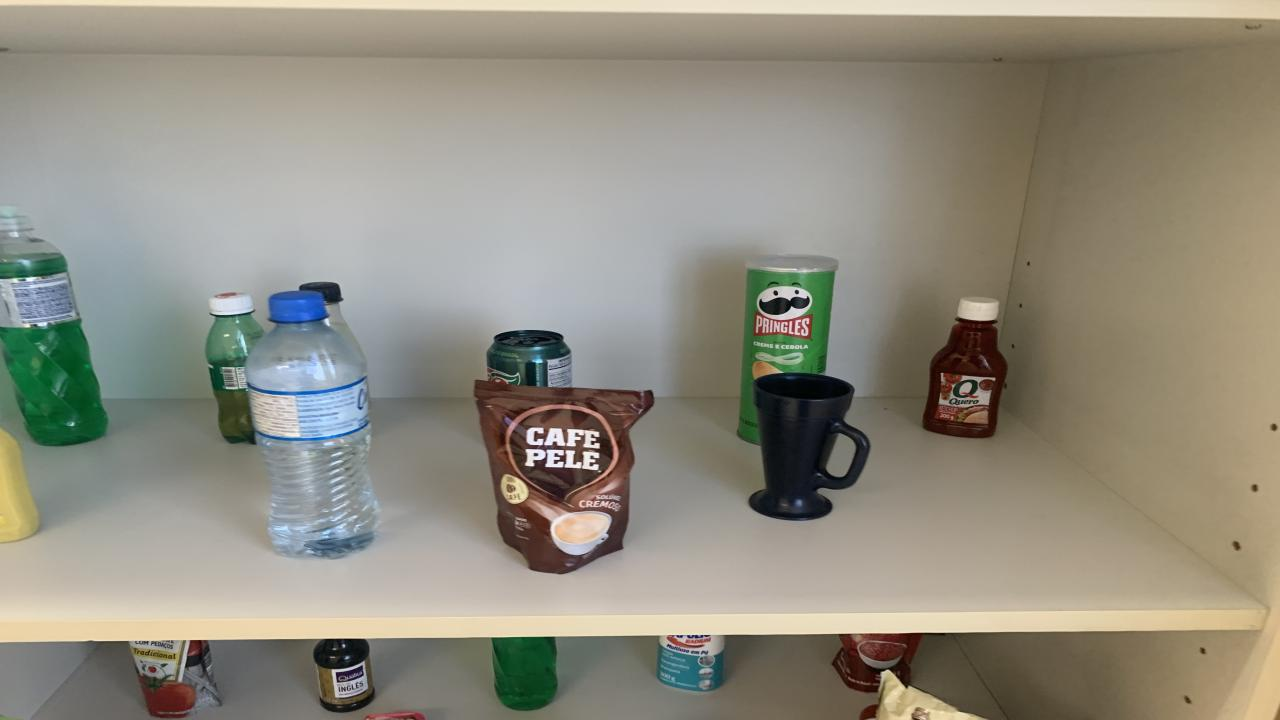Cleaner-Cleanup_Items: (658, 636, 725, 692)
Coffee-Pantry_Items: (475, 381, 655, 574)
Detergent-Cleanup_Items: (0, 208, 108, 446), (492, 638, 558, 711)
English_Sauce-Pantry_Items: (312, 639, 375, 712)
Flakes-Snacks: (875, 671, 982, 720)
Guarana-Drinks: (205, 292, 265, 442)
Guarana_Can-Drinks: (488, 330, 572, 388)
Ketchup-Pantry_Items: (922, 296, 1008, 437)
Mustard-Pantry_Items: (0, 429, 40, 542)
Pringles-Snacks: (738, 255, 838, 442)
Soda-Drinks: (300, 281, 360, 351)
Tomato_Sauce-Pantry_Items: (130, 639, 222, 718), (832, 632, 922, 692)
Water_Bottle-Drinks: (245, 291, 378, 555)
